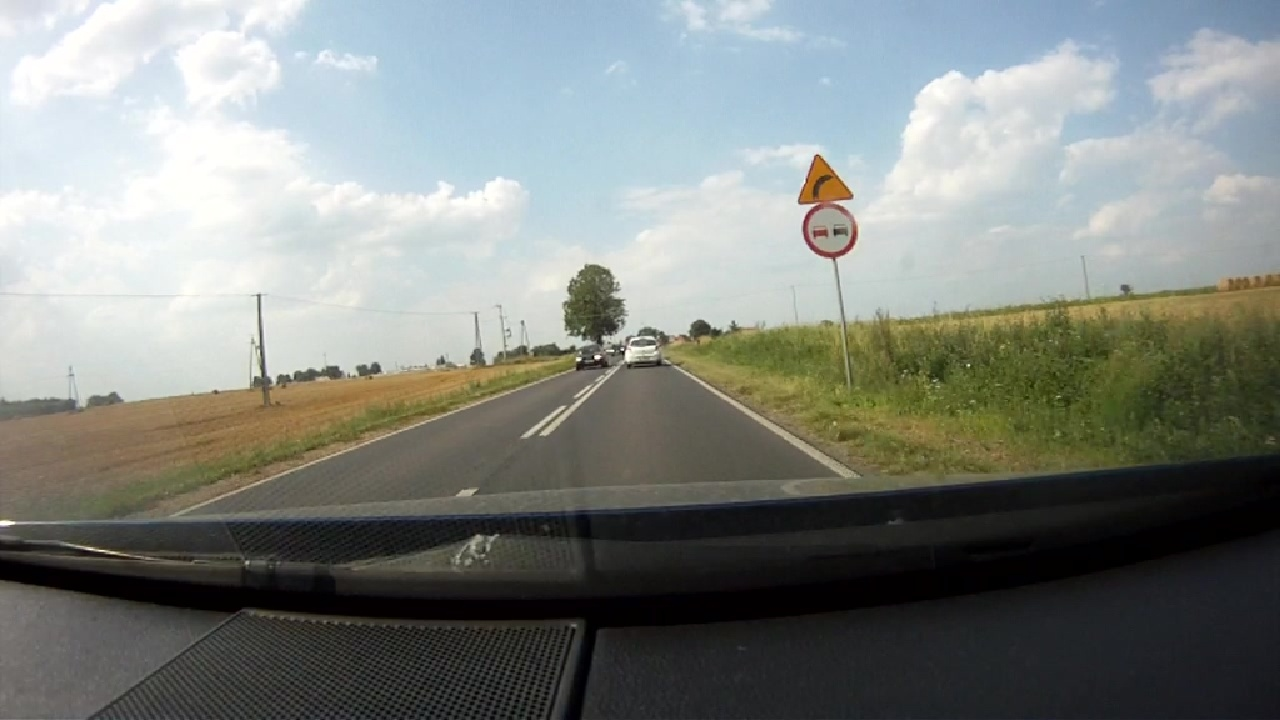A1: (798, 154, 855, 204)
B25: (802, 204, 858, 259)
